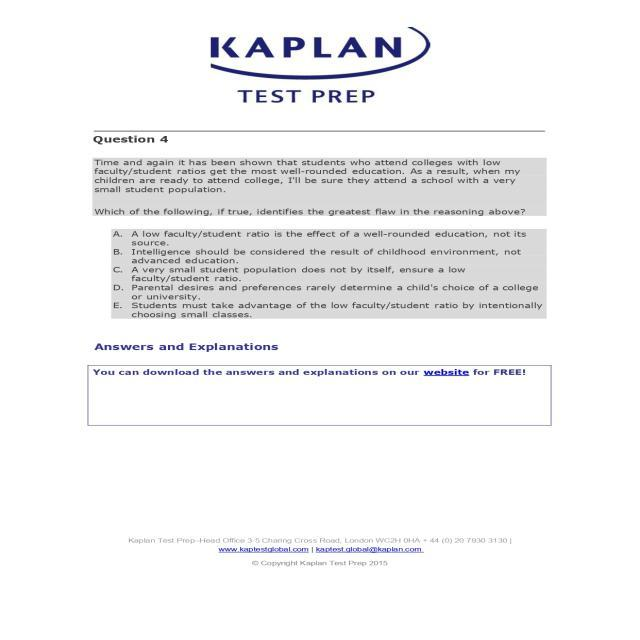Answer_Block: (80, 225, 551, 430)
Question_Answer_Block: (80, 134, 552, 432)
Question_Block: (90, 134, 548, 218)
Question_Paper_Area: (79, 134, 553, 432)
